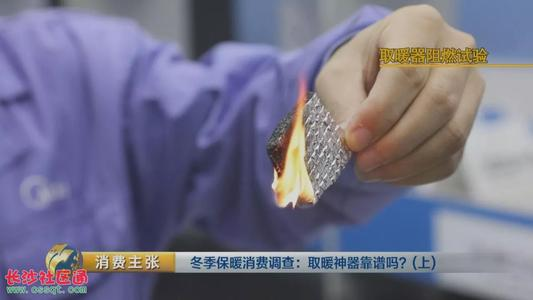fire: (274, 82, 319, 224)
